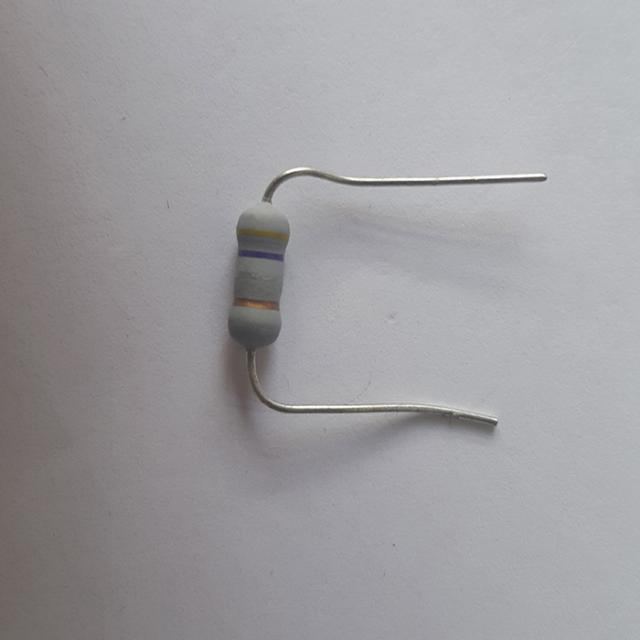Resistor Carbon-Film: (227, 209, 290, 348)
